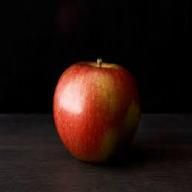apple: (51, 60, 136, 164)
